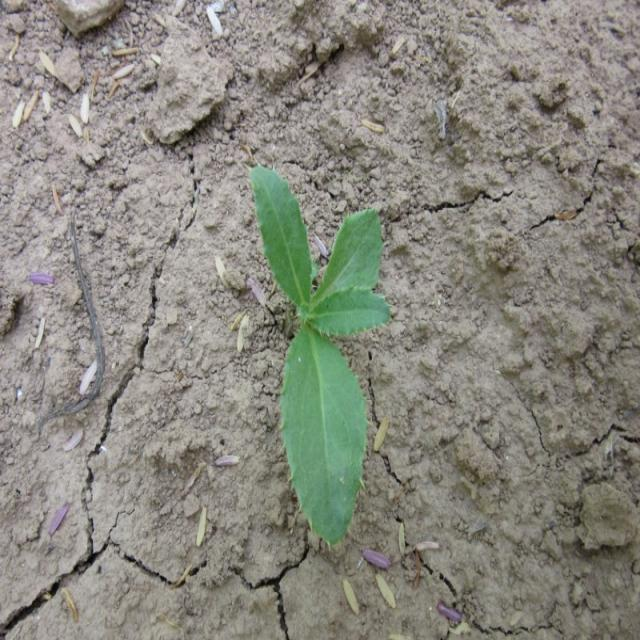field_thistle: (240, 140, 392, 556)
